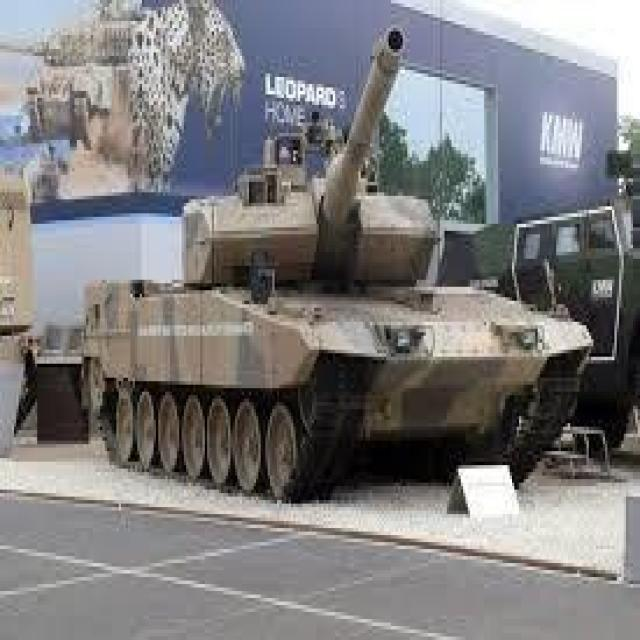Tanks: (71, 81, 583, 507)
